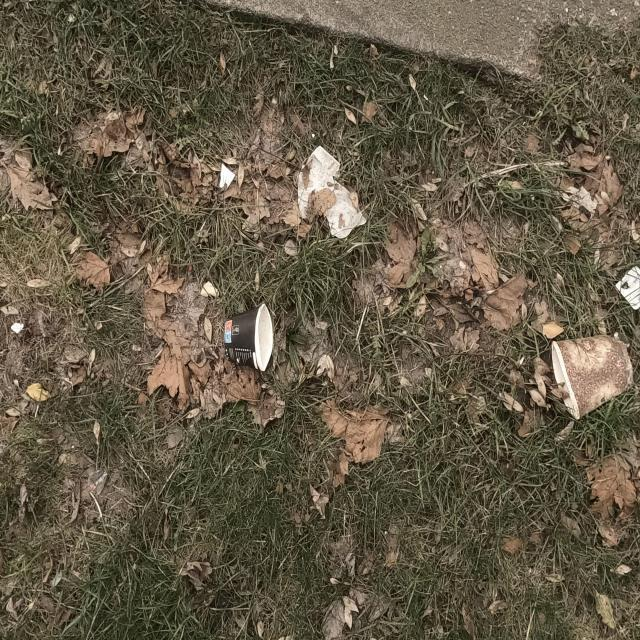Cup: (545, 328, 635, 428), (228, 302, 276, 369)
